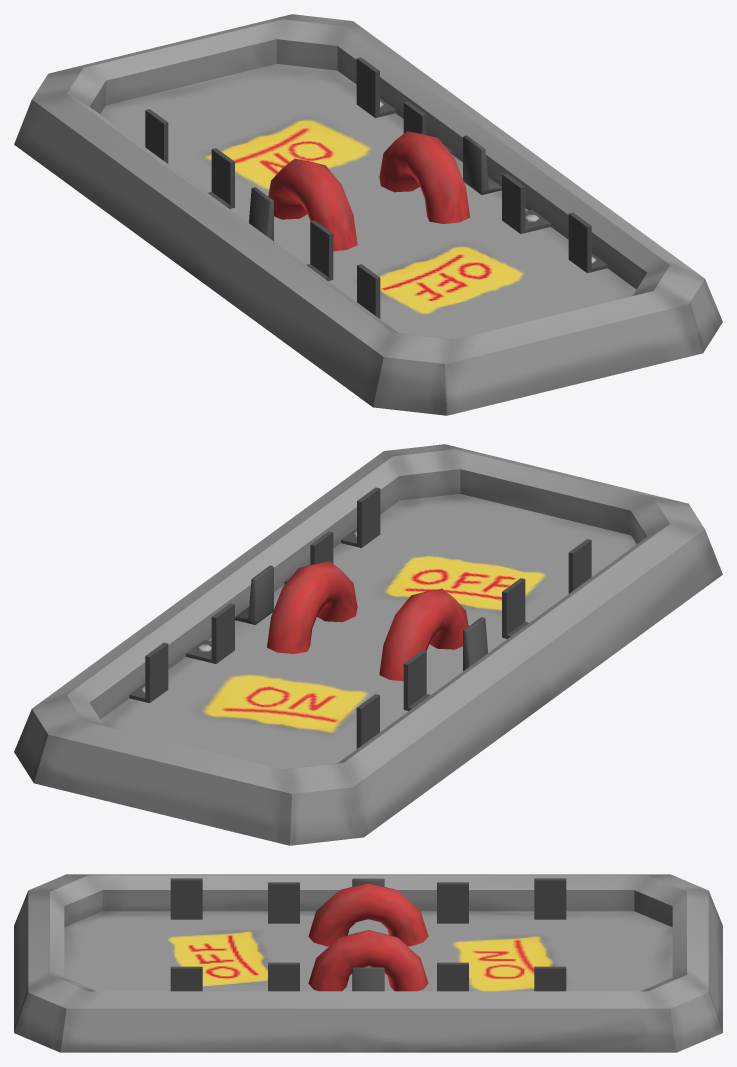
File: LeverPlate.fbx
3 renders of one model, top to bottom at view 1: azimuth 30°, elevation 25°; view 2: azimuth 150°, elevation 25°; view 3: azimuth 270°, elevation 25°, orthographic. The views are drawn at different scales.
Visible parts, largest first — view 1: LeverPlate, Cube.005, Torus; view 2: LeverPlate, Cube.005, Torus; view 3: LeverPlate, Cube.005, Torus.
Boxes of the visible parts, x1,y1,x2,y2 form: LeverPlate: (14, 14, 722, 415); Cube.005: (145, 57, 607, 318); Torus: (268, 131, 469, 251); LeverPlate: (14, 444, 722, 845); Cube.005: (129, 487, 591, 748); Torus: (267, 561, 468, 681); LeverPlate: (14, 874, 722, 1052); Cube.005: (170, 878, 566, 991); Torus: (308, 883, 428, 991).
Size of the model in its own units: 27.63 by 6.35 by 56.5.
1 material, 1 textured.
